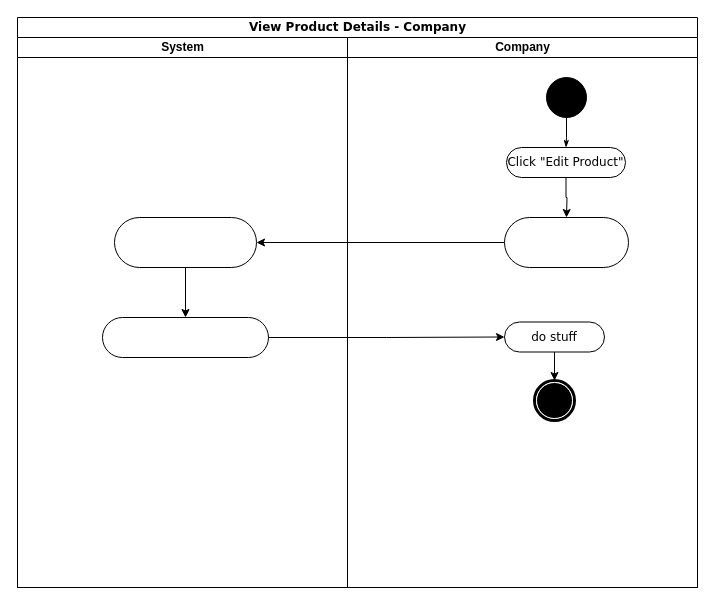
Some shapes in this 715 by 605 pixel diagram are drawn without their labels. The centre of each missing label's shape, as x and y in pixels:
Click "Details" on the product you want to edit: point 566,242
show the chosen product: point 185,337
take the chosen product from the DB: point 185,242
